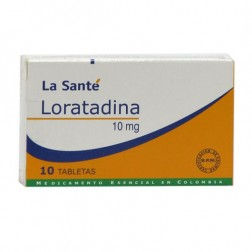LaSante: (28, 60, 233, 186)
